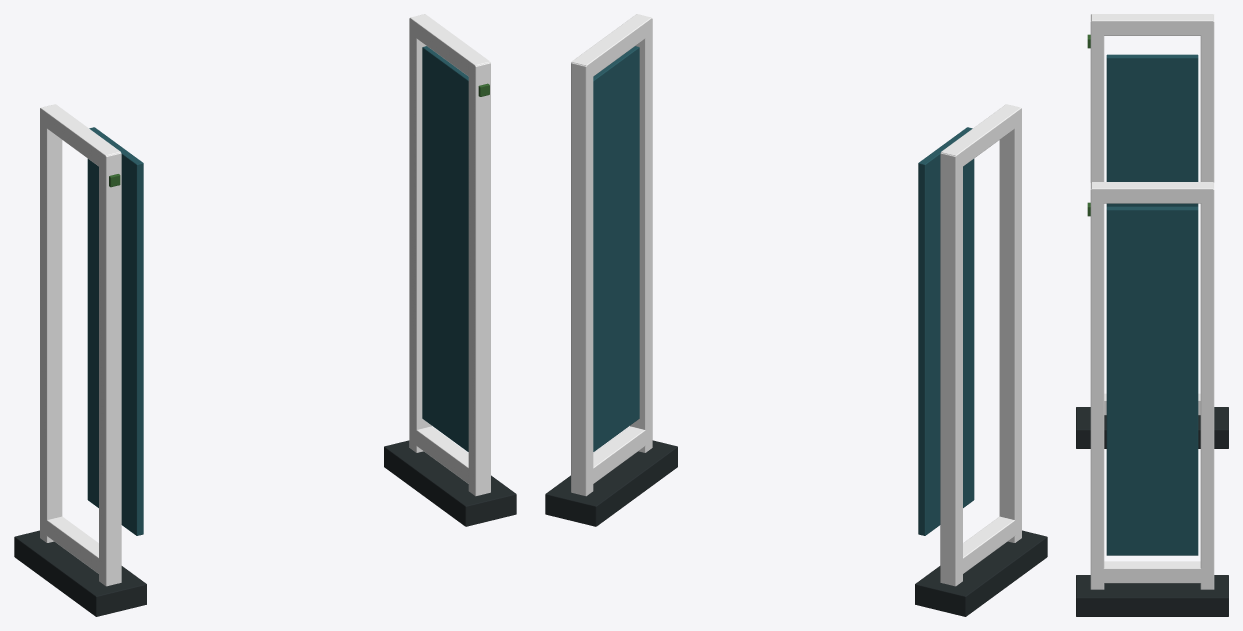
File: source-edit.glb
3 renders of one model, left to right at view 1: azimuth 30°, elevation 25°; view 2: azimuth 150°, elevation 25°; view 3: azimuth 270°, elevation 25°, orthographic. The views are drawn at different scales.
Visible parts, largest first — view 1: Antenna_Core, Antenna_Core.001, Antenna_Post.003, Antenna_Post.001, Antenna_Post.002, Antenna_Post, Base, Base.001, Antenna_End.002, Antenna_End, Antenna_End.003, Antenna_End.001; view 2: Antenna_Core, Antenna_Core.001, Antenna_Post, Antenna_Post.002, Antenna_Post.001, Antenna_Post.003, Base, Base.001, Antenna_End, Antenna_End.002, Antenna_End.003, Antenna_End.001; view 3: Antenna_Core, Antenna_Core.001, Antenna_Post.003, Antenna_Post, Base, Antenna_End.002, Antenna_End.003, Antenna_End, Antenna_Post.002, Antenna_Post.001, Base.001.
Boxes of the visible parts, x1,y1,x2,y2 form: Antenna_Core: (422, 46, 468, 451); Antenna_Core.001: (87, 127, 143, 535); Antenna_Post.003: (468, 62, 490, 496); Antenna_Post.001: (99, 152, 121, 586); Antenna_Post.002: (40, 108, 62, 542); Antenna_Post: (409, 18, 431, 452); Base: (384, 440, 516, 526); Base.001: (14, 530, 146, 616); Antenna_End.002: (40, 104, 120, 170); Antenna_End: (410, 14, 490, 77); Antenna_End.003: (410, 426, 472, 484); Antenna_End.001: (40, 516, 105, 573); Antenna_Core: (593, 46, 639, 451); Antenna_Core.001: (918, 127, 974, 535); Antenna_Post: (571, 62, 593, 496); Antenna_Post.002: (940, 152, 962, 586); Antenna_Post.001: (999, 108, 1021, 542); Antenna_Post.003: (630, 18, 652, 452); Base: (545, 440, 677, 526); Base.001: (915, 530, 1047, 616); Antenna_End: (571, 14, 651, 79); Antenna_End.002: (941, 104, 1021, 170); Antenna_End.003: (587, 426, 651, 488); Antenna_End.001: (956, 516, 1015, 578); Antenna_Core: (1106, 206, 1198, 555); Antenna_Core.001: (1106, 54, 1198, 206); Antenna_Post.003: (1090, 183, 1104, 589); Antenna_Post: (1200, 183, 1214, 589); Base: (1076, 575, 1228, 616); Antenna_End.002: (1091, 14, 1213, 35); Antenna_End.003: (1092, 561, 1212, 583); Antenna_End: (1091, 182, 1213, 203); Antenna_Post.002: (1200, 15, 1214, 182); Antenna_Post.001: (1090, 15, 1104, 182); Base.001: (1076, 407, 1228, 448).
Size of the model in its own units: 1.48 by 1.52 by 0.5.
